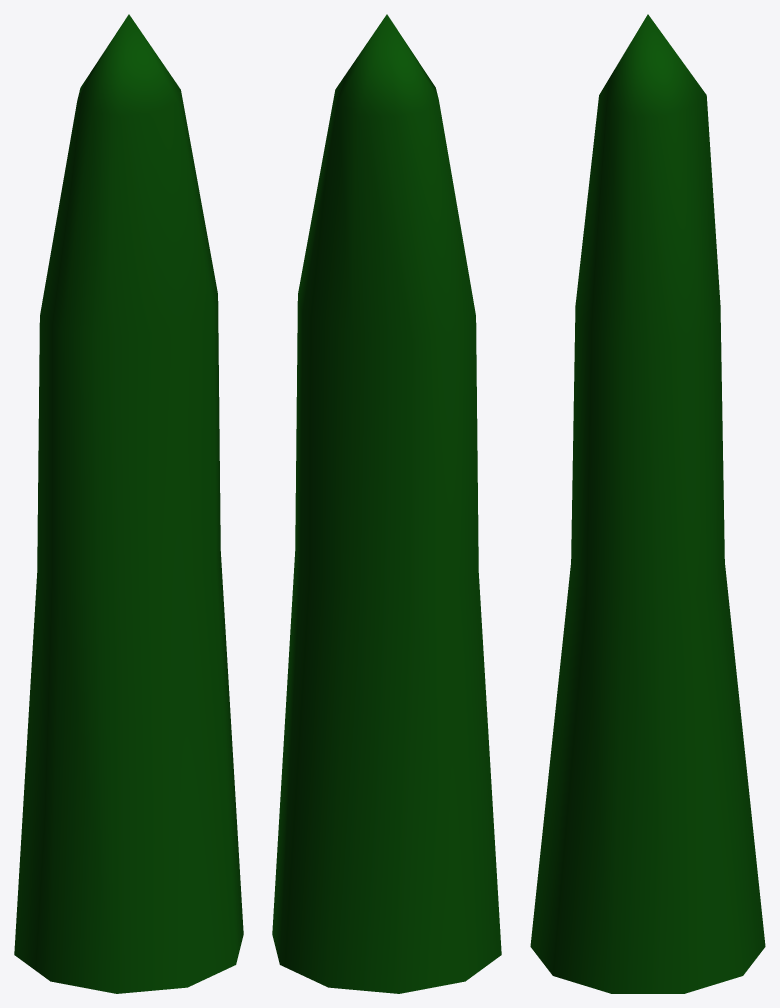
File: yerbajo.fbx
The picture shows the model from 3 angles, left to right: view 1: azimuth 30°, elevation 25°; view 2: azimuth 150°, elevation 25°; view 3: azimuth 270°, elevation 25°; orthographic projection.
Visible parts, largest first — view 1: yerbajo; view 2: yerbajo; view 3: yerbajo.
Part boxes in pixels (box(x1,y1,x2,y2)): yerbajo: box(14, 14, 243, 993); yerbajo: box(272, 14, 501, 993); yerbajo: box(530, 14, 765, 993).
Bounding box in the file's own units: 0.6654 × 3.06 × 0.6996.
